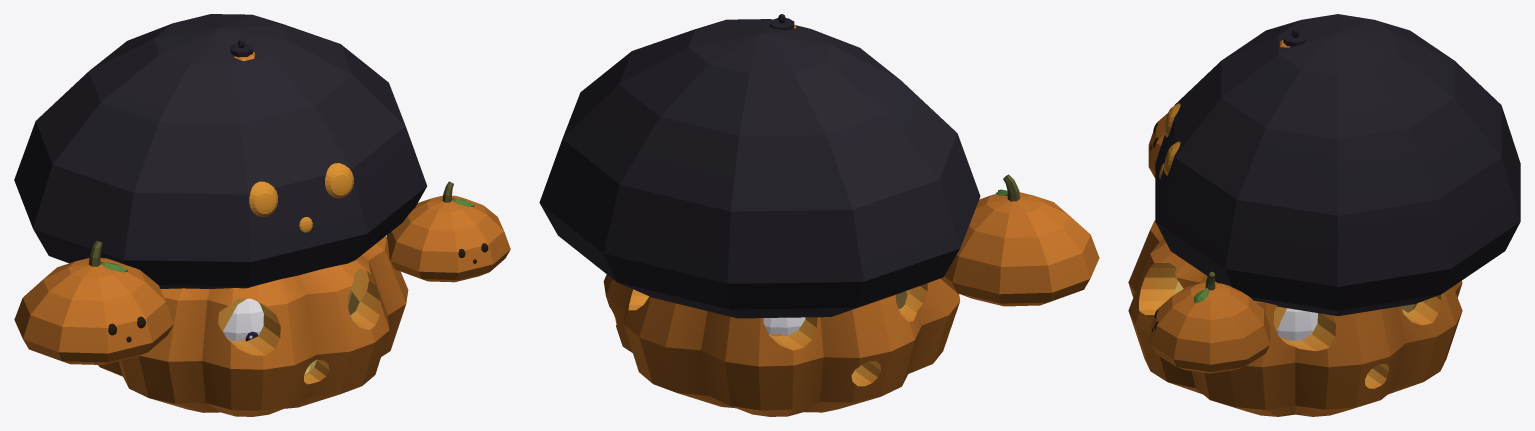
The model's file is Ville_Spooky_Kit.glb.
The picture shows the model from 3 angles, left to right: view 1: azimuth 30°, elevation 25°; view 2: azimuth 150°, elevation 25°; view 3: azimuth 270°, elevation 25°; orthographic projection. The views are drawn at different scales.
Visible parts, largest first — view 1: Spooky_Fountain_Slimes, Spooky_Fountain_Pumpkin, Spooky_Ghost; view 2: Spooky_Fountain_Slimes, Spooky_Fountain_Pumpkin, Spooky_Ghost; view 3: Spooky_Fountain_Slimes, Spooky_Fountain_Pumpkin, Spooky_Ghost.
Part boxes in pixels (x1=…): Spooky_Fountain_Slimes: x1=14, y1=14, x2=510, y2=364; Spooky_Fountain_Pumpkin: x1=98, y1=236, x2=408, y2=416; Spooky_Ghost: x1=223, y1=298, x2=263, y2=341; Spooky_Fountain_Slimes: x1=539, y1=19, x2=1099, y2=318; Spooky_Fountain_Pumpkin: x1=603, y1=274, x2=959, y2=416; Spooky_Ghost: x1=763, y1=317, x2=805, y2=335; Spooky_Fountain_Slimes: x1=1148, y1=14, x2=1520, y2=373; Spooky_Fountain_Pumpkin: x1=1128, y1=220, x2=1462, y2=416; Spooky_Ghost: x1=1276, y1=308, x2=1317, y2=340.
Size of the model in its own units: 5.05 by 3.74 by 3.51.
